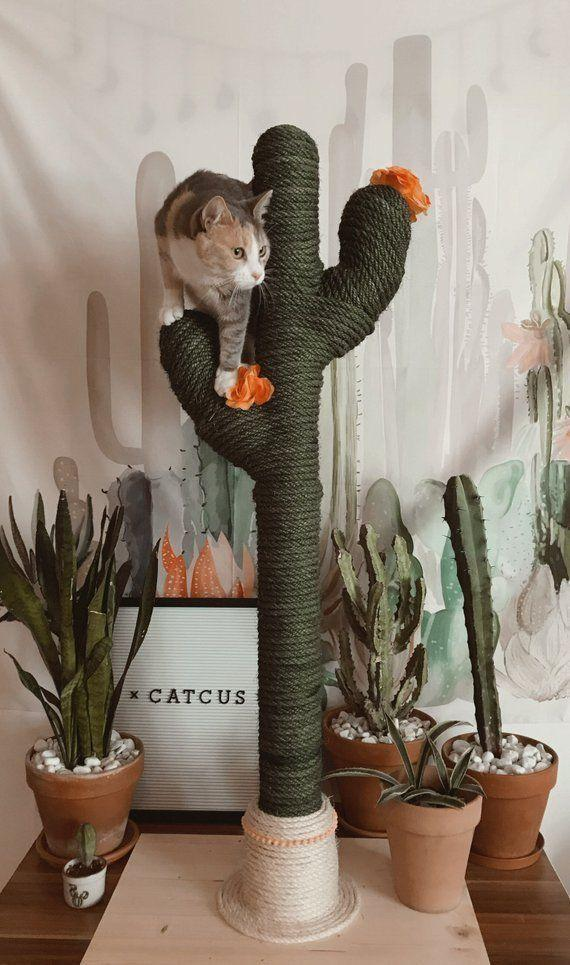kedo: (158, 170, 272, 389)
